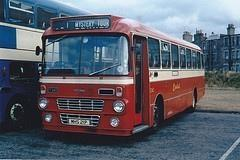bus: (33, 17, 206, 140), (0, 0, 97, 130)
